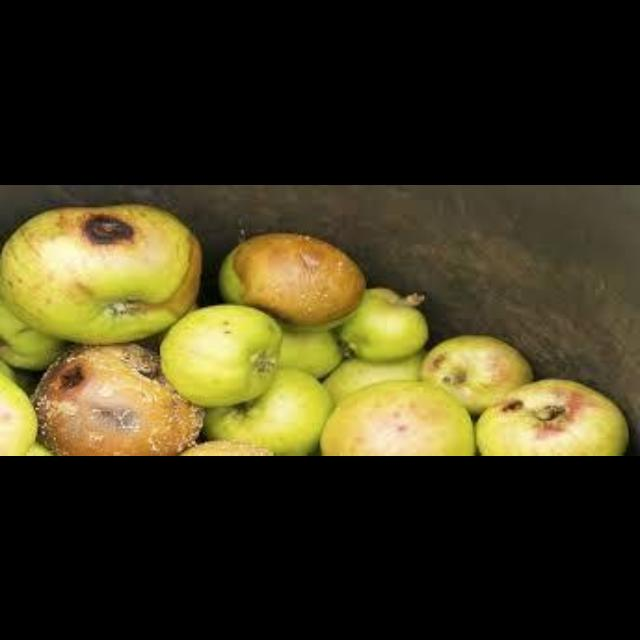apple: (0, 206, 201, 342), (33, 342, 203, 454), (218, 232, 365, 327), (160, 305, 281, 405), (322, 379, 474, 454), (476, 379, 627, 454), (203, 368, 331, 454), (419, 335, 532, 413), (339, 288, 426, 359), (0, 372, 35, 454)
pest: (76, 212, 138, 250)
rotten: (33, 342, 203, 454), (233, 235, 363, 326), (149, 237, 202, 317)
